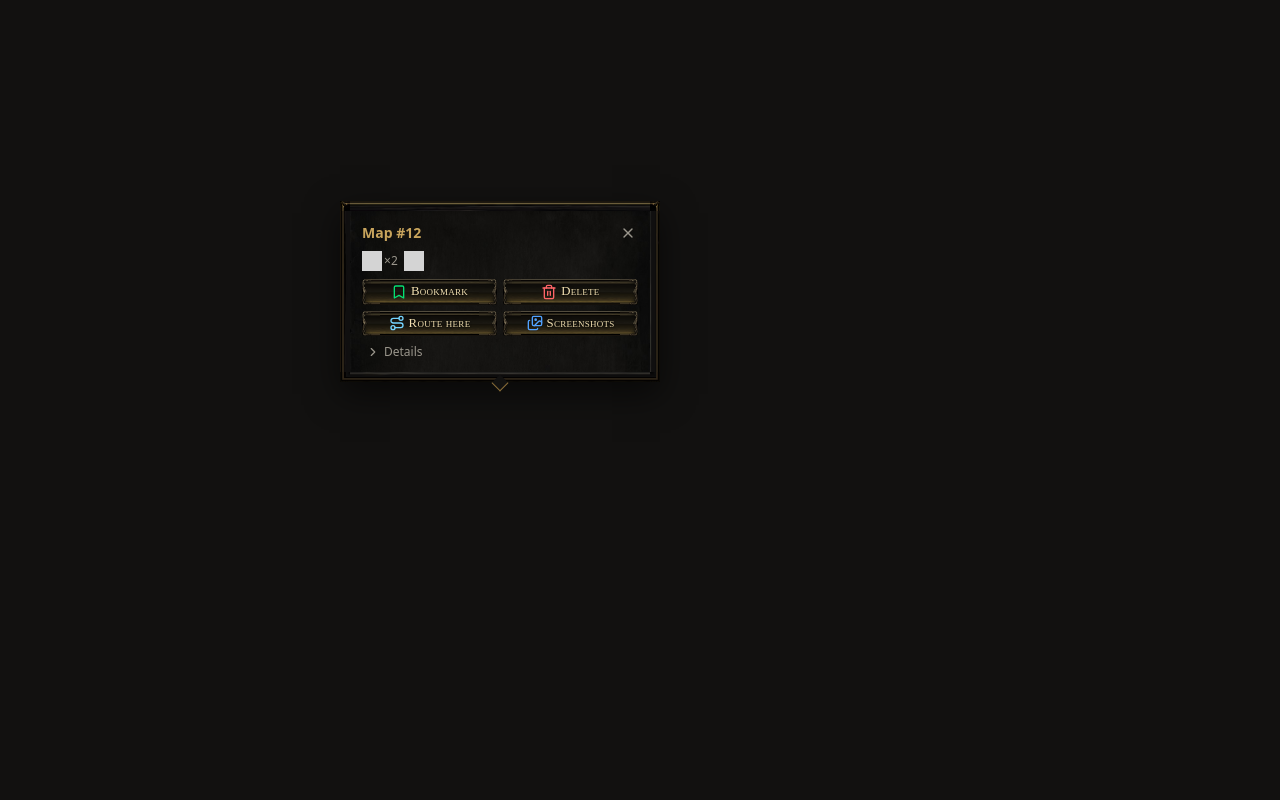
Scenario: SelectionBox › a map: its heading, its icons grouped, and its details folded away
Expected: the dialog named "Selected: Map #12" is shown, 340,201 -> 660,382
Expected: the text "×2" is shown, 384,253 -> 398,269
Click the button "Details" at (394, 352), box 362,344 -> 426,360
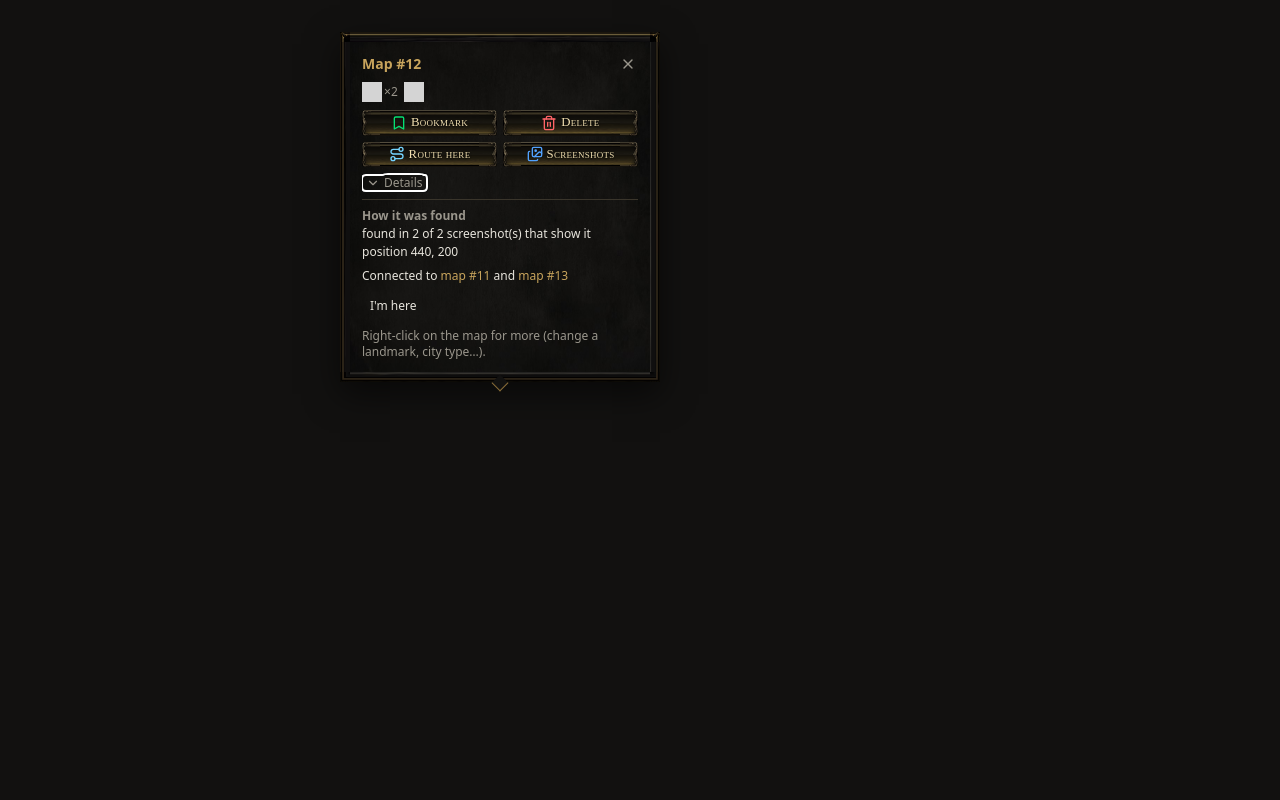
Result: the text "How it was found" is shown at 362,207 -> 466,224
Result: the text "found in 2 of 2 screenshot(s) that show it" is shown at 362,225 -> 591,242
Result: the text "Connected to map #11 and map #13" is shown at 362,267 -> 568,284
